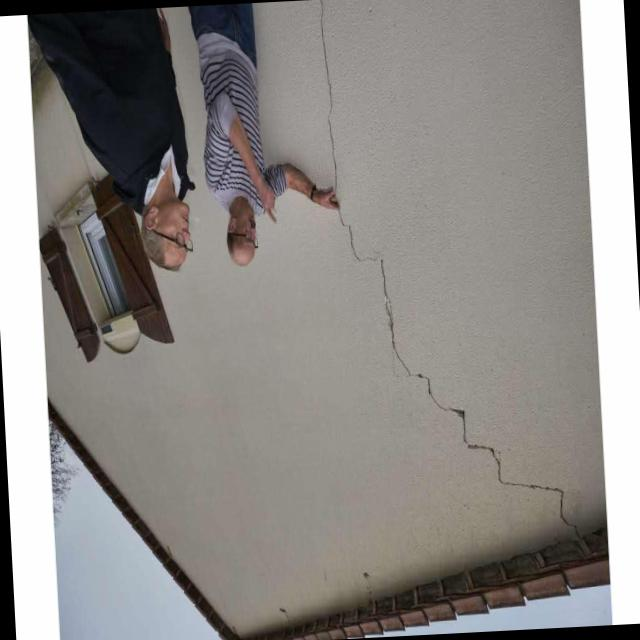crack: (318, 3, 583, 538)
